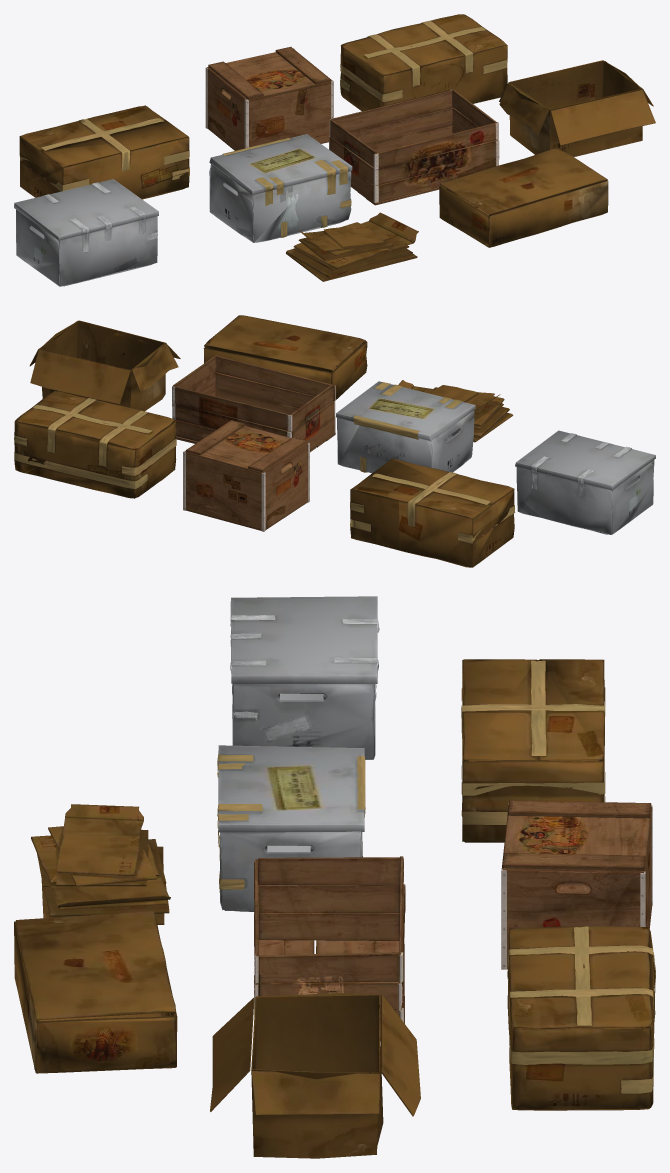
Rendered from boxes.glb.
The picture shows the model from 3 angles, top to bottom: view 1: azimuth 30°, elevation 25°; view 2: azimuth 150°, elevation 25°; view 3: azimuth 270°, elevation 25°; orthographic projection. The views are drawn at different scales.
Parts seen in each view (by area): view 1: pCube955_B6_0, pCube998_B5_0, pSphere4_B1_0, pPlane215_B2_0, polySurface172_Box_001_0, pPlane227_B3_0, pCube1276_B7_0, pCube1274_B4_0, pCube1560_B9_0, pCube1274_P4_0, pPlane227_P3_0, pPlane215_P2_0 (+1 smaller); view 2: pPlane227_B3_0, pCube1276_B7_0, pCube955_B6_0, pCube1274_B4_0, pSphere4_B1_0, polySurface172_Box_001_0, pPlane215_B2_0, pCube998_B5_0, pCube1274_P4_0, pCube1560_B9_0, pPlane227_P3_0, pPlane215_P2_0 (+1 smaller); view 3: polySurface172_Box_001_0, pCube998_B5_0, pCube1274_B4_0, pCube955_B6_0, pSphere4_B1_0, pCube1276_B7_0, pPlane227_B3_0, pPlane215_B2_0, pCube1560_B9_0, pCube1274_P4_0, pPlane227_P3_0, pPlane215_P2_0 (+1 smaller).
Boxes of the visible parts, x1,y1,x2,y2 form: pCube955_B6_0: (329, 89, 499, 205); pCube998_B5_0: (439, 148, 608, 247); pSphere4_B1_0: (14, 179, 158, 286); pPlane215_B2_0: (209, 134, 352, 242); polySurface172_Box_001_0: (499, 60, 655, 156); pPlane227_B3_0: (19, 105, 189, 199); pCube1276_B7_0: (205, 47, 333, 150); pCube1274_B4_0: (340, 14, 507, 111); pCube1560_B9_0: (286, 212, 418, 281); pCube1274_P4_0: (340, 20, 507, 101); pPlane227_P3_0: (20, 118, 189, 191); pPlane215_P2_0: (222, 138, 351, 237); pPlane227_B3_0: (350, 458, 514, 567); pCube1276_B7_0: (183, 420, 309, 531); pCube955_B6_0: (172, 355, 335, 452); pCube1274_B4_0: (14, 391, 176, 498); pSphere4_B1_0: (515, 430, 655, 534); polySurface172_Box_001_0: (29, 320, 180, 411); pPlane215_B2_0: (336, 381, 475, 473); pCube998_B5_0: (203, 315, 367, 399); pCube1274_P4_0: (14, 398, 176, 488); pCube1560_B9_0: (398, 380, 513, 442); pPlane227_P3_0: (350, 472, 515, 543); pPlane215_P2_0: (353, 382, 462, 472); polySurface172_Box_001_0: (210, 993, 420, 1158); pCube998_B5_0: (14, 911, 177, 1073); pCube1274_B4_0: (507, 926, 655, 1110); pCube955_B6_0: (254, 856, 405, 1040); pSphere4_B1_0: (230, 596, 377, 759); pCube1276_B7_0: (501, 800, 652, 969); pPlane227_B3_0: (462, 659, 604, 842); pPlane215_B2_0: (218, 745, 364, 911); pCube1560_B9_0: (31, 804, 170, 924); pCube1274_P4_0: (507, 926, 655, 1093); pPlane227_P3_0: (461, 660, 605, 824); pPlane215_P2_0: (217, 754, 365, 892).
Bounding box in the file's own units: 3.5 × 0.3528 × 1.97.
Materials: 13 (13 with a texture image).
